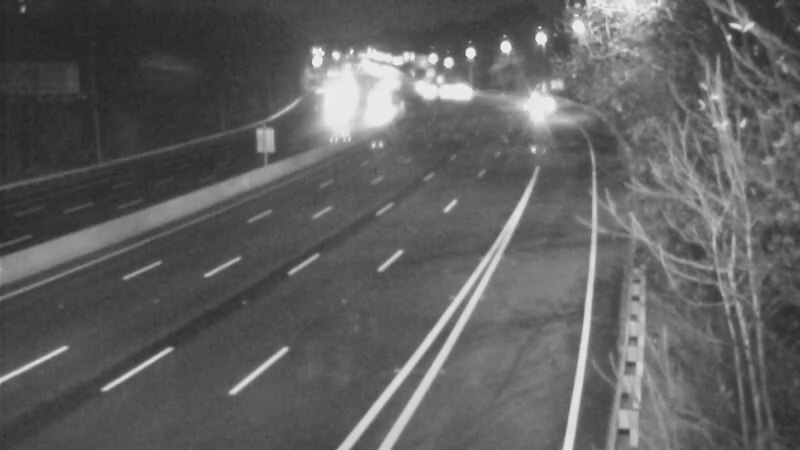vehicle: (434, 66, 484, 116), (503, 77, 553, 127), (345, 77, 395, 127)
